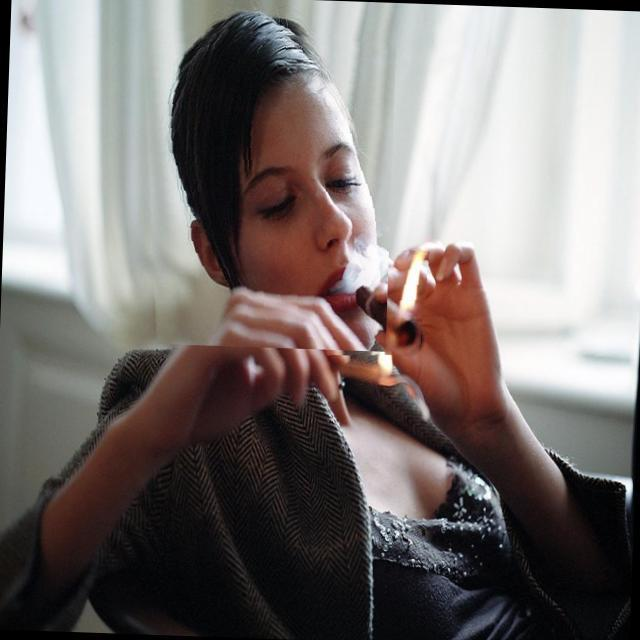cigarette: (324, 248, 430, 359)
